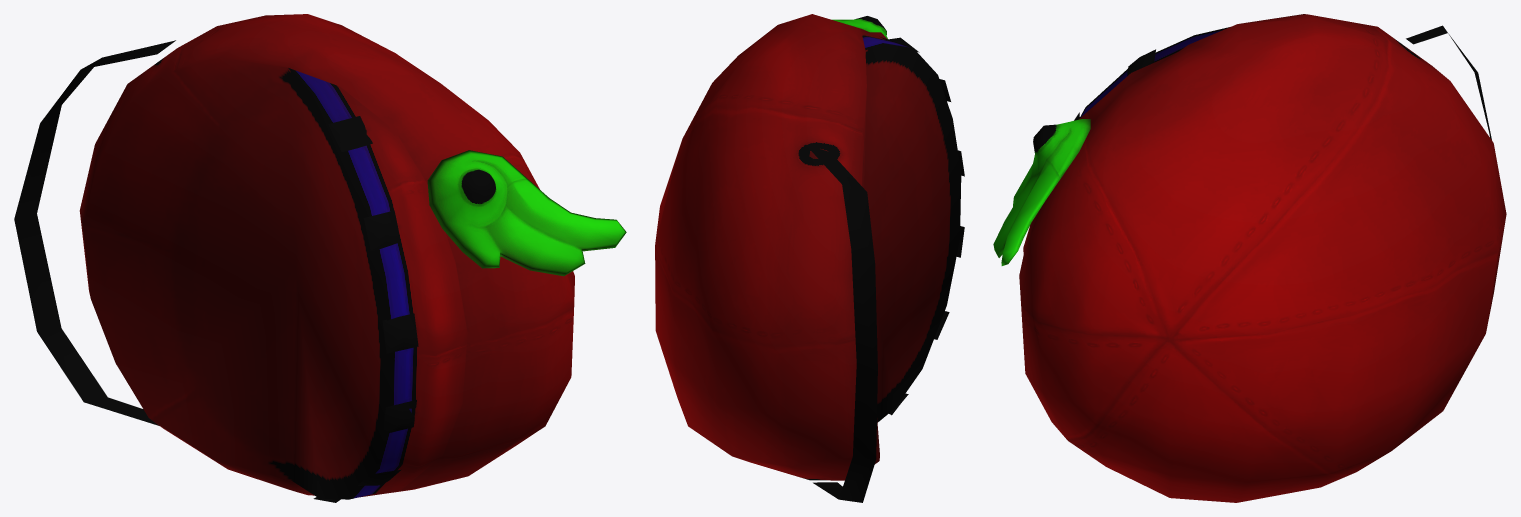
3 views of the same model, side by side, from view 1: azimuth 30°, elevation 25°; view 2: azimuth 150°, elevation 25°; view 3: azimuth 270°, elevation 25° (orthographic). The views are drawn at different scales.
Parts seen in each view (by area): view 1: M1261; view 2: M1261; view 3: M1261.
Part boxes in pixels (box(x1,y1,x2,y2)): M1261: box(14, 14, 626, 502); M1261: box(655, 14, 964, 502); M1261: box(993, 14, 1506, 502).
Size of the model in its own units: 0.4305 by 0.4961 by 0.5277.
